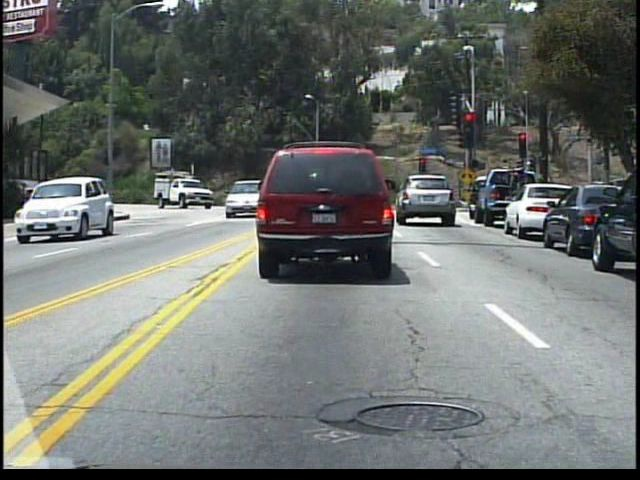person: (453, 179, 465, 209)
